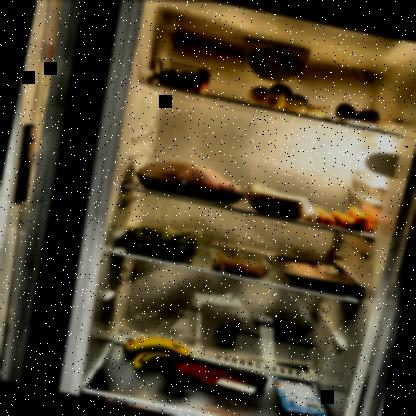banana: (114, 329, 204, 385)
beef: (153, 349, 271, 409)
carrot: (306, 195, 377, 233)
chicken: (129, 148, 250, 207), (269, 251, 362, 297)
chocolate: (264, 372, 334, 415)
eggs: (332, 99, 383, 128)
green_beans: (115, 219, 214, 266)
potato: (244, 76, 334, 120)
shrimp: (208, 249, 275, 282)
strawberries: (154, 57, 214, 95)
